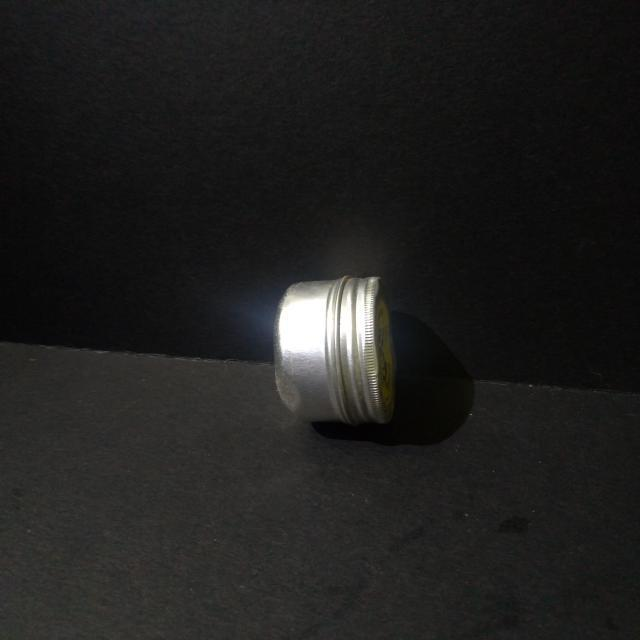metal-can: (273, 274, 402, 434)
